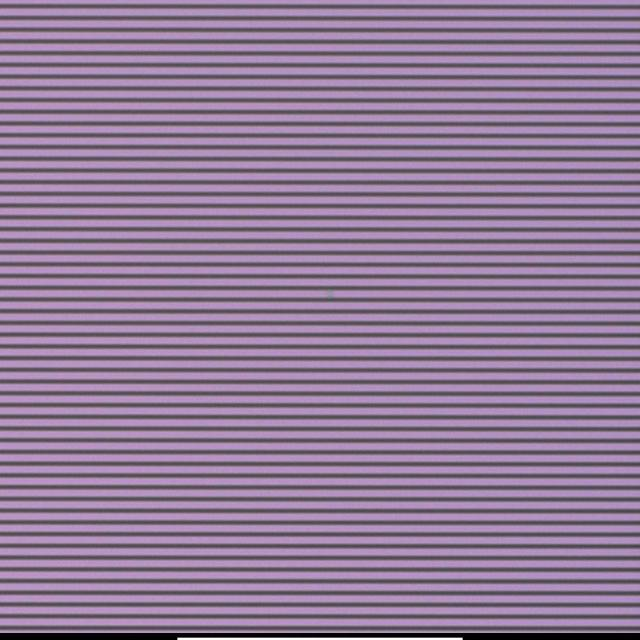nonvisual: (319, 283, 337, 304)
